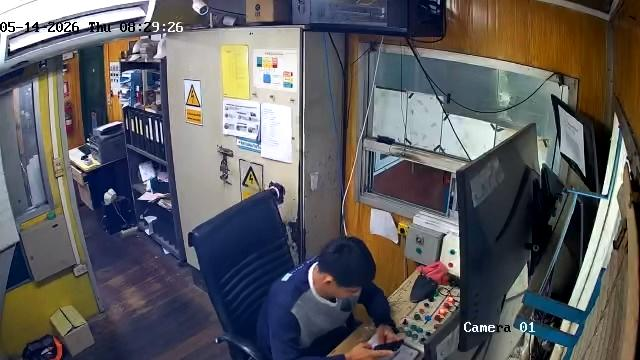Head: (317, 237, 375, 298)
People: (261, 234, 398, 360)
Phone: (372, 339, 403, 352)
